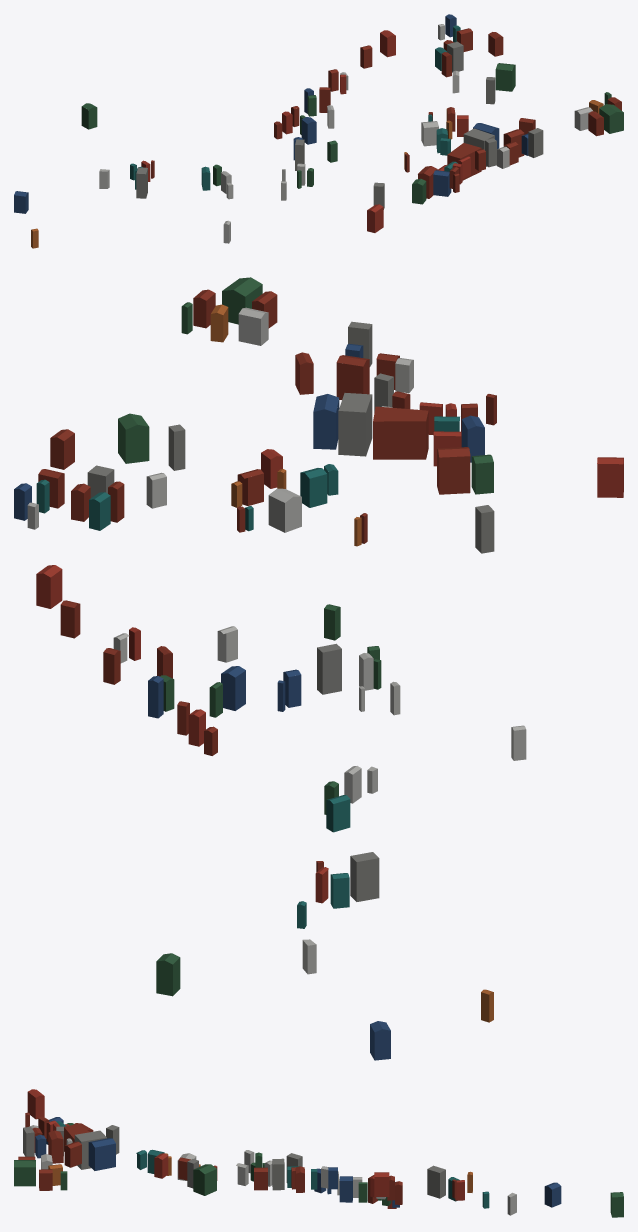
The model's file is near-15-27356-14871.37feeb31.glb.
3 views of the same model, one above another, from view 1: azimuth 30°, elevation 25°; view 2: azimuth 150°, elevation 25°; view 3: azimuth 270°, elevation 25° (orthographic). The views are drawn at different scales.
Size of the model in its own units: 389 by 200 by 513.
